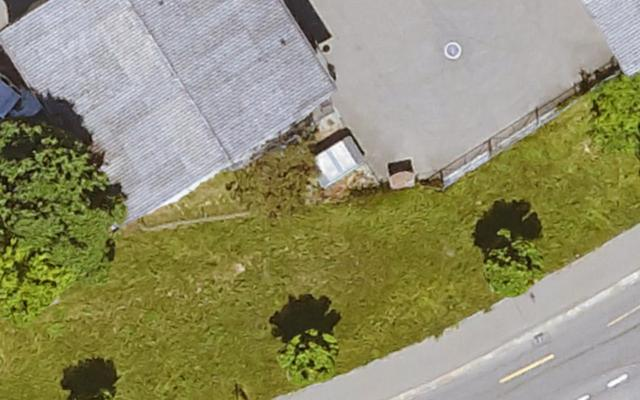tree: (0, 131, 120, 321), (592, 75, 640, 154), (484, 232, 541, 294), (280, 329, 338, 384)
